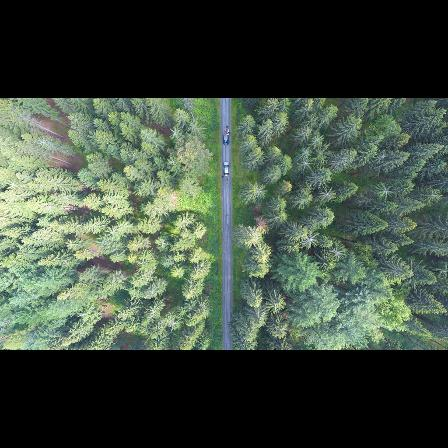Sick: (314, 186, 338, 204), (302, 230, 319, 252), (294, 157, 315, 174), (377, 182, 395, 200), (328, 245, 347, 262), (253, 182, 269, 202), (169, 123, 184, 141), (310, 133, 326, 148), (105, 224, 118, 240), (299, 147, 312, 158)
